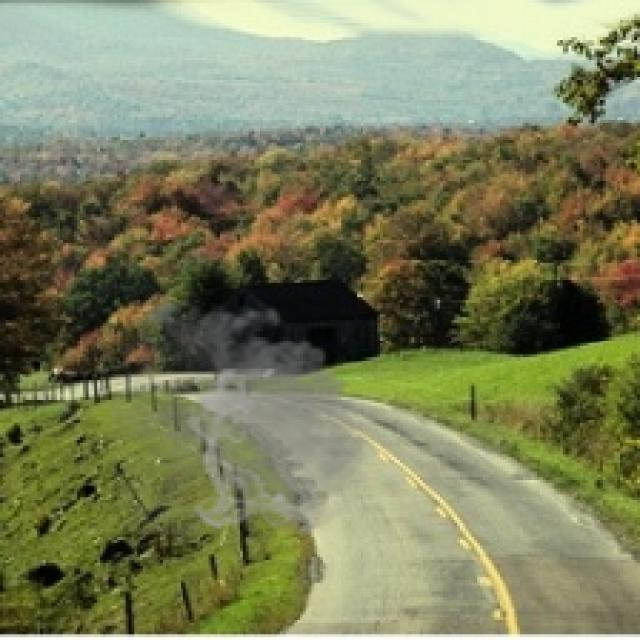smoke: (112, 292, 388, 537)
